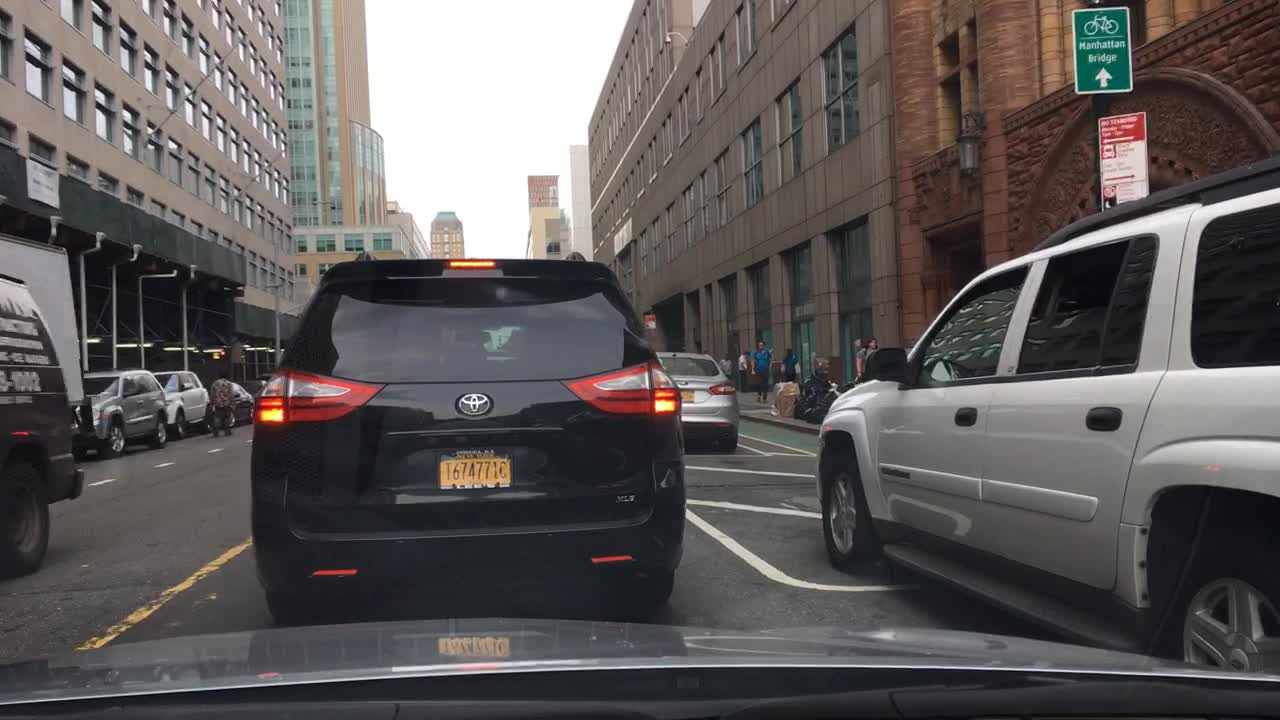car: (814, 151, 1279, 677), (248, 249, 683, 623), (0, 271, 85, 575), (650, 347, 739, 455), (74, 366, 167, 464), (147, 369, 210, 438), (208, 378, 253, 422)
person: (209, 370, 232, 434), (752, 339, 775, 398), (863, 338, 883, 375), (850, 336, 867, 377), (736, 349, 750, 393), (784, 341, 799, 379), (719, 353, 731, 375)
traffic sign: (1096, 109, 1150, 207), (1072, 8, 1130, 91), (642, 309, 658, 332)
truck: (0, 232, 91, 451)
